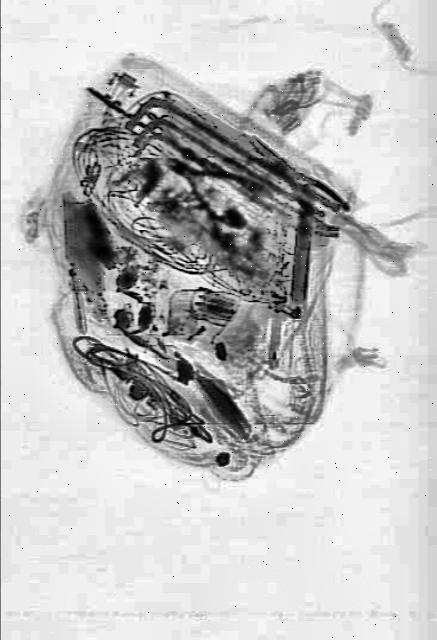Pliers: (243, 127, 353, 240), (159, 132, 265, 242)
